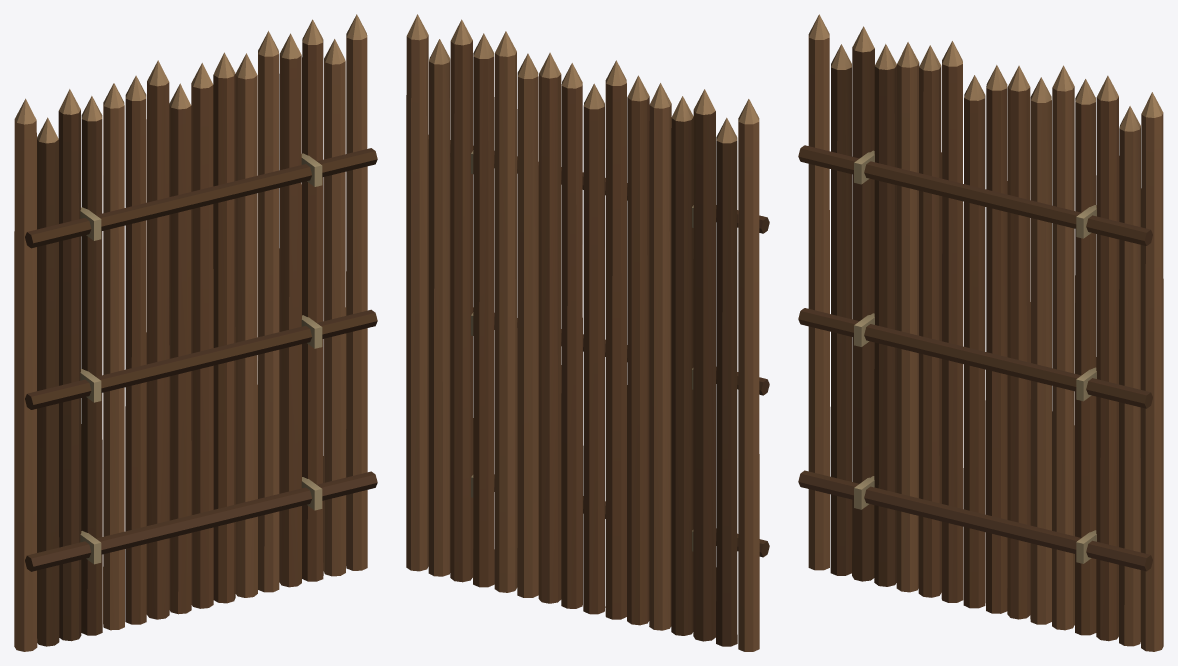
File: fence_palisade_tall.glb
3 renders of one model, left to right at view 1: azimuth 30°, elevation 25°; view 2: azimuth 150°, elevation 25°; view 3: azimuth 330°, elevation 25°, orthographic.
Visible parts, largest first — view 1: fence_palisade_tall; view 2: fence_palisade_tall; view 3: fence_palisade_tall.
Boxes of the visible parts, x1,y1,x2,y2 form: fence_palisade_tall: (14,14,377,651); fence_palisade_tall: (406,14,769,651); fence_palisade_tall: (798,14,1163,651).
Bounding box in the file's own units: 2.39 × 3.62 × 0.266.
